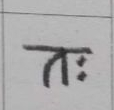aa_matra: (63, 52, 69, 85)
